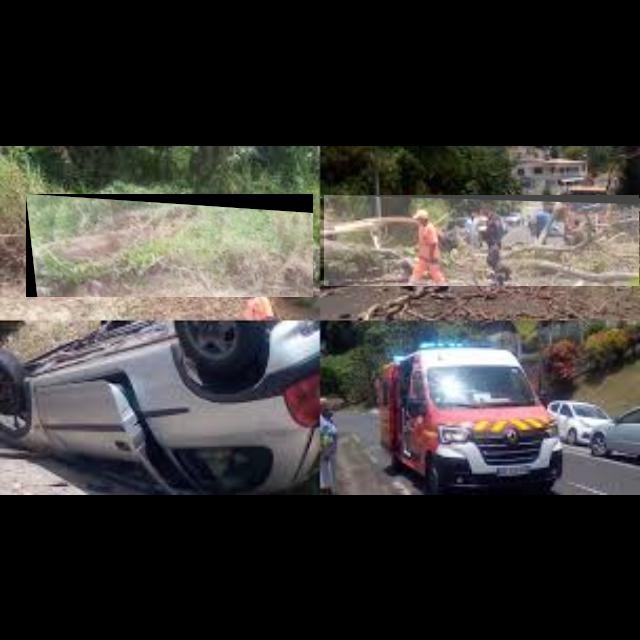Fallen Tree: (26, 194, 314, 298), (324, 195, 640, 287)
